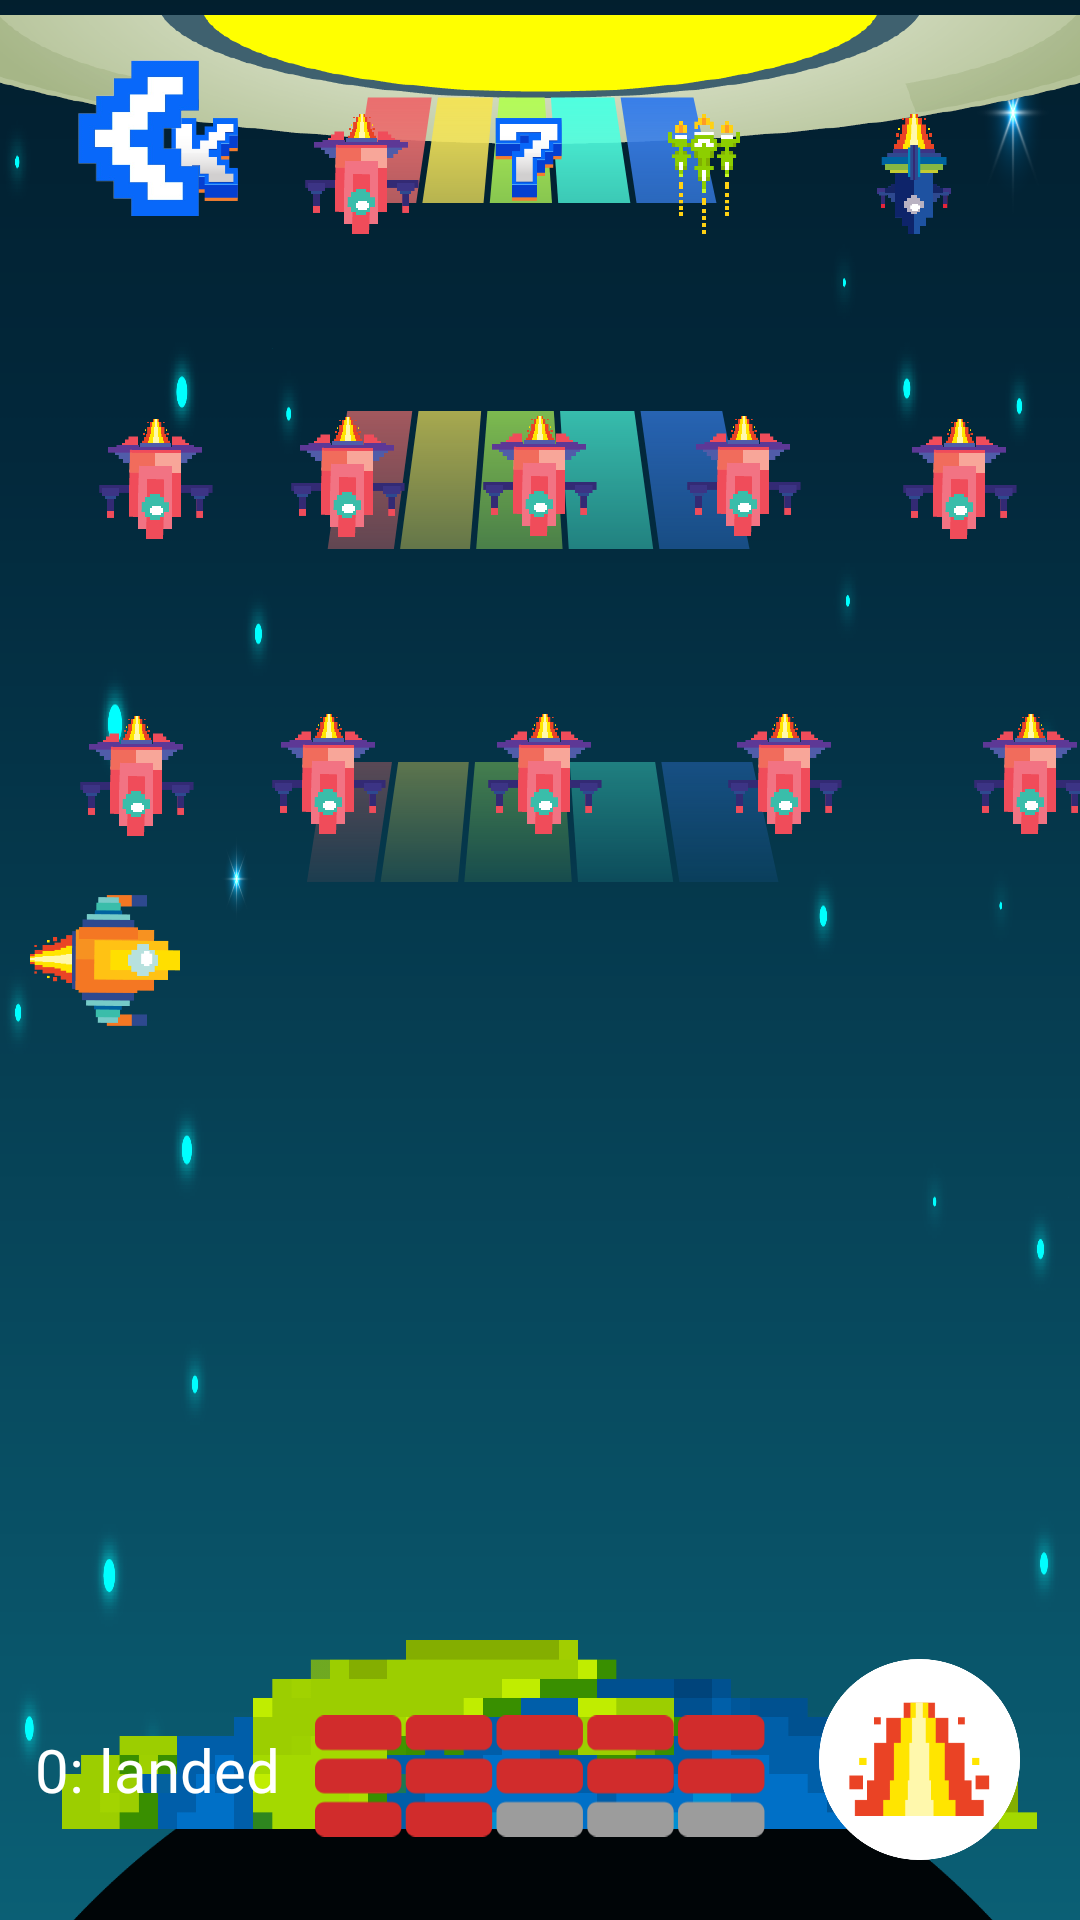

Point at icon controls on the screen. Image size 1080*1920, points as [x,y].
back play: [138,138]
